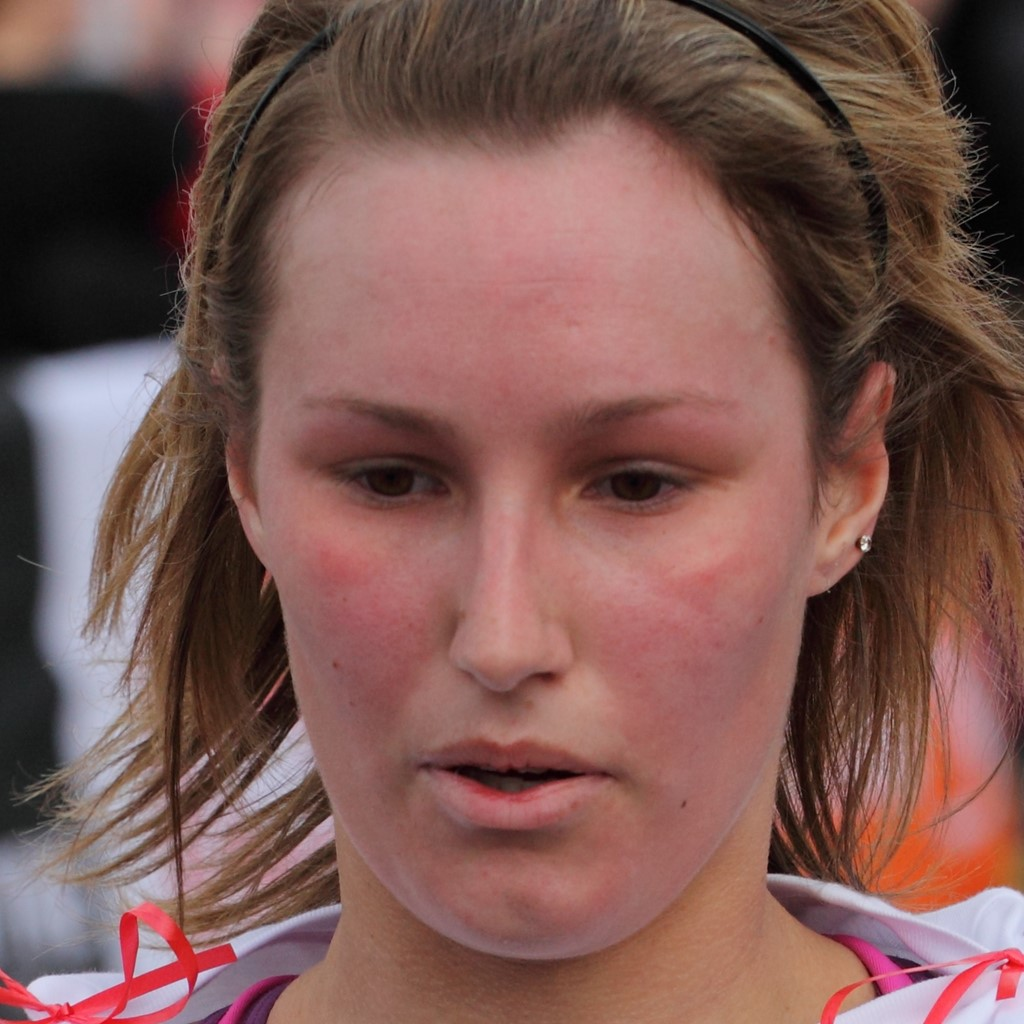sin_mascara: (214, 105, 823, 944)
